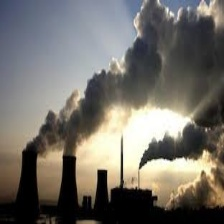smoke: (29, 9, 217, 153)
